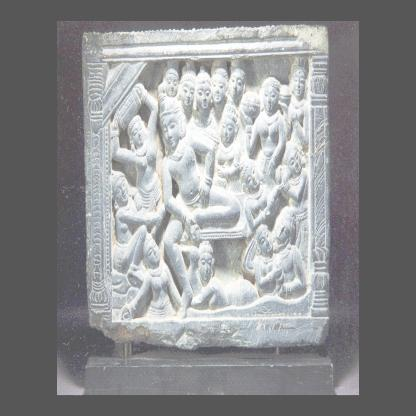buddha-sitting: (158, 84, 240, 316)
